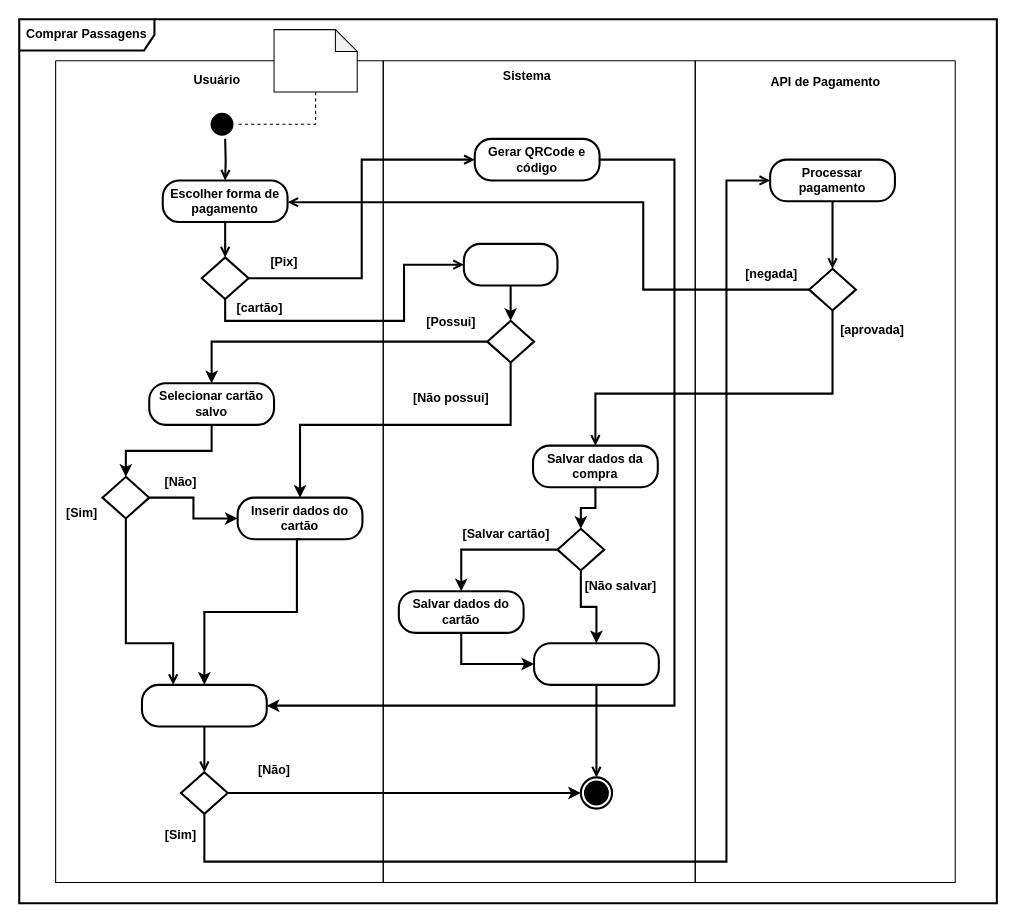
Image size: 1015x921. Some labels were removed from this diagram. Each missing label, with the box of its shape:
Efetuar pagamento: (140, 683, 267, 727)
Emitir passagem: (532, 642, 659, 685)
Logado: (273, 29, 357, 92)
Verificar cartão salvo: (462, 242, 558, 286)
